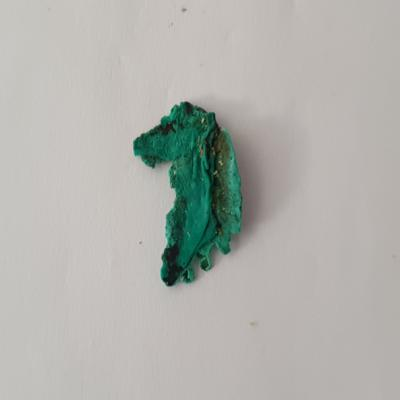plastic: (130, 96, 249, 292)
